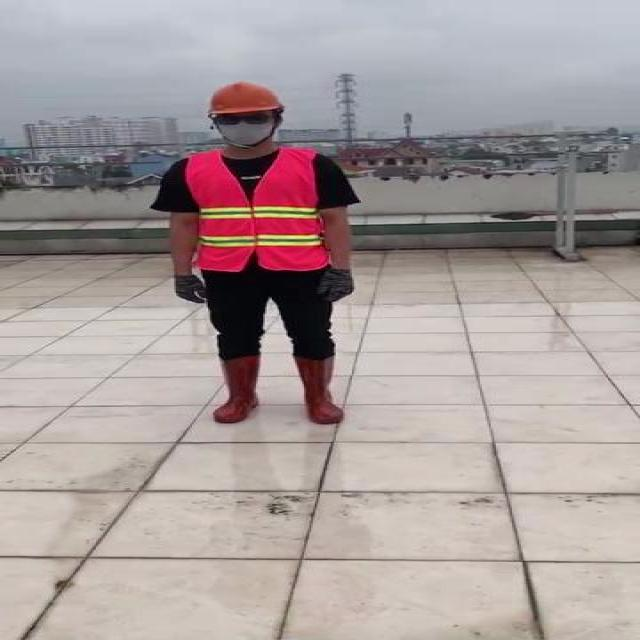boots: (212, 354, 262, 424), (299, 355, 345, 426)
face_mask: (210, 111, 284, 150)
glasses: (209, 111, 273, 126)
hand_glove: (320, 270, 354, 303), (172, 275, 206, 306)
head_helmet: (204, 80, 284, 114)
person: (156, 78, 382, 425)
vest: (185, 153, 325, 271)
